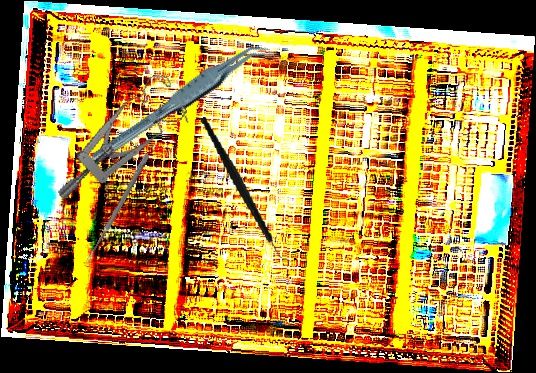Chopper: (200, 107, 294, 274)
Speculum: (31, 69, 202, 201)
Surgical Spoon: (85, 152, 150, 264)
Tissue Forceps: (79, 38, 281, 166)
